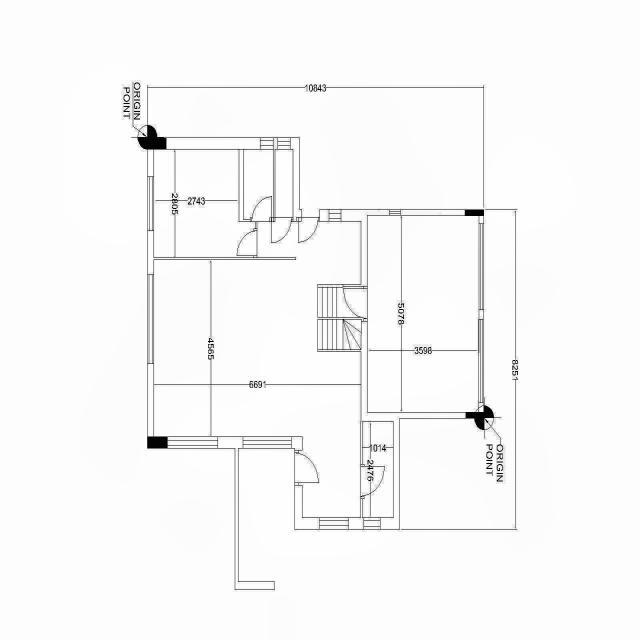Column: (146, 136, 166, 150), (147, 436, 168, 448), (465, 210, 484, 217), (466, 412, 484, 419)
Door: (294, 450, 320, 486), (343, 286, 368, 322), (360, 464, 385, 499), (236, 228, 258, 258), (296, 217, 320, 243), (250, 196, 272, 222), (271, 218, 293, 244)
Staircase: (318, 288, 367, 350)
Window: (147, 274, 154, 364), (242, 436, 292, 448), (168, 436, 218, 448), (478, 319, 484, 403), (479, 223, 484, 310), (147, 176, 154, 232), (319, 518, 349, 530), (364, 518, 381, 530), (328, 208, 342, 222), (260, 138, 274, 150), (278, 138, 290, 150), (389, 210, 401, 216)
